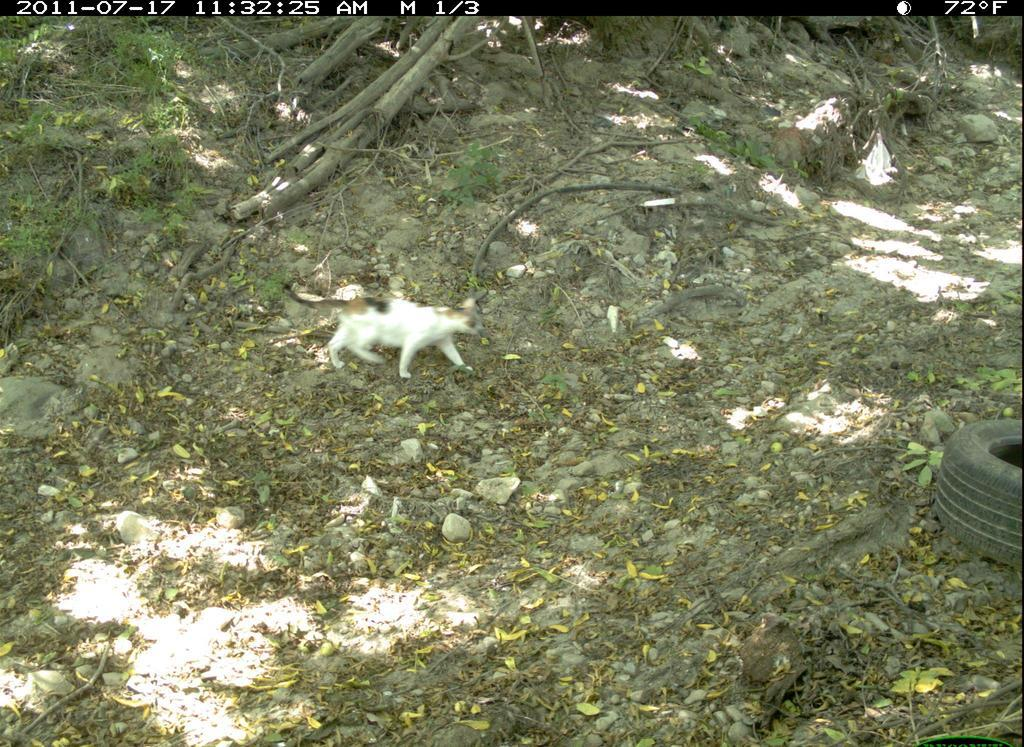cat: (273, 267, 511, 393)
